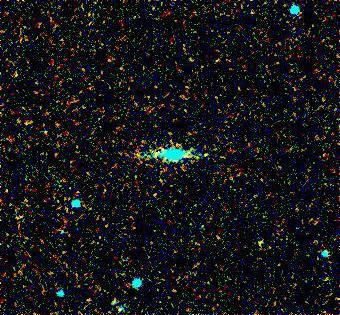star: (192, 139, 222, 169)
